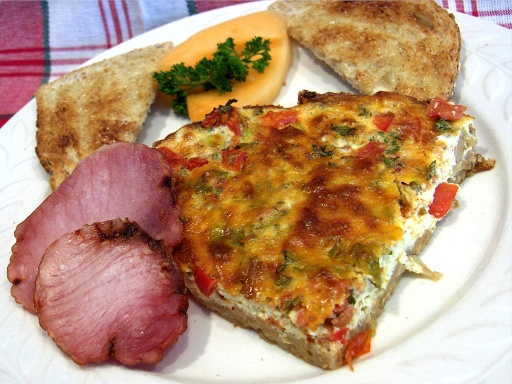background: (5, 0, 396, 223)
